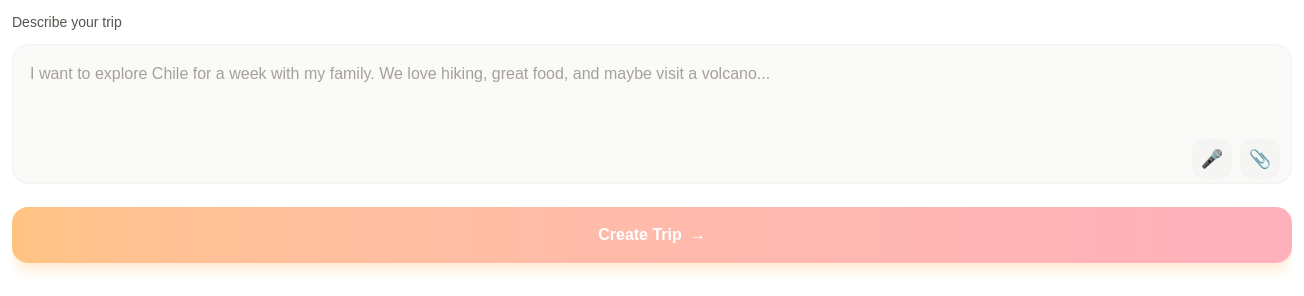
Scenario: MessageBasedTripCreator › Rendering › should enable submit button when textarea has content
In the text box labelled "Describe your trip": (652, 114) [12,44,1292,184], type "Trip to Paris"
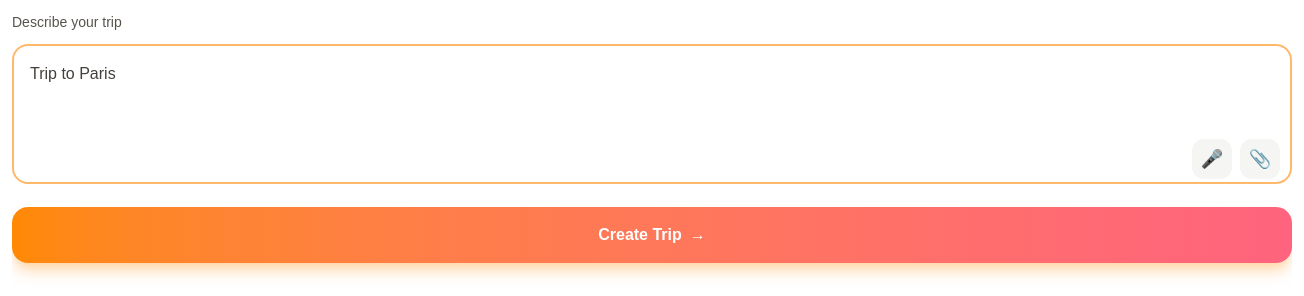
Check: the button "Create Trip →" is enabled, box [12,207,1292,263]
